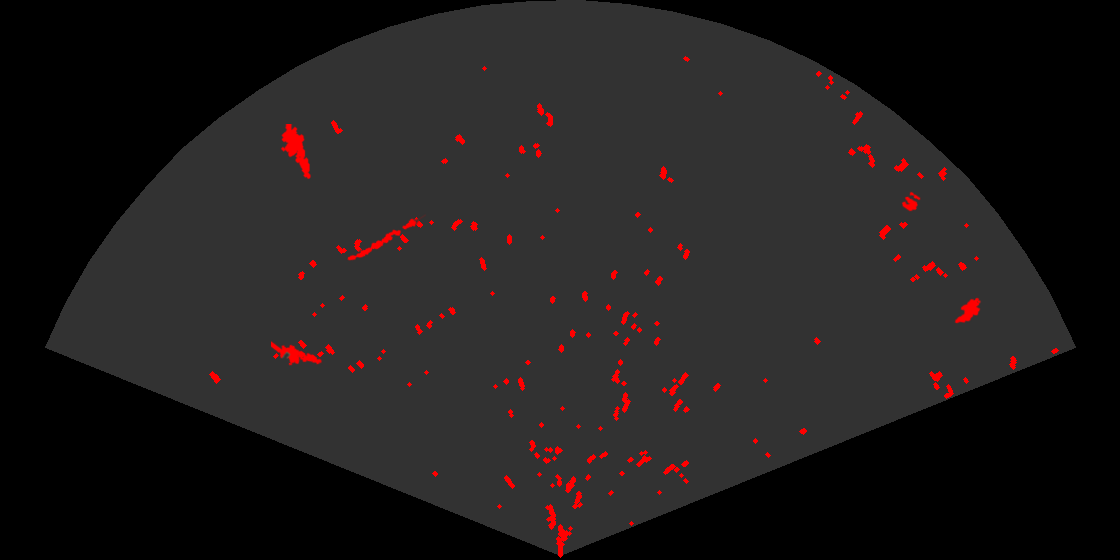AUV: (953, 296, 983, 325)
ball: (900, 190, 922, 213)
chain: (346, 213, 426, 262)
frogman: (279, 124, 312, 179), (271, 339, 324, 367)
